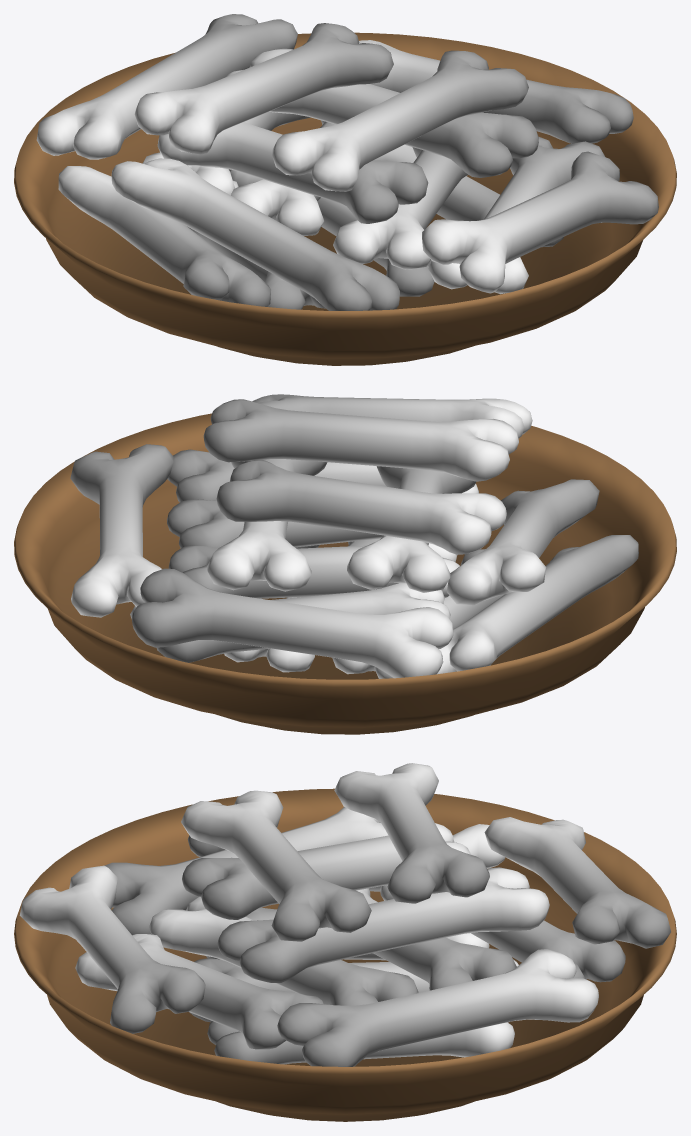
The model's file is bones.gltf.
3 views of the same model, one above another, from view 1: azimuth 30°, elevation 25°; view 2: azimuth 150°, elevation 25°; view 3: azimuth 270°, elevation 25° (orthographic).
Visible parts, largest first — view 1: bones, plate; view 2: bones, plate; view 3: bones, plate.
Part boxes in pixels (<box>): bones: <box>36,14,658,310</box>; plate: <box>14,32,676,365</box>; bones: <box>70,394,638,678</box>; plate: <box>14,413,676,734</box>; bones: <box>19,763,670,1066</box>; plate: <box>14,788,676,1121</box>.
Size of what is drawn, in the model's own units: 0.542 by 0.1911 by 0.542.
Materials: 1 (1 with a texture image).
